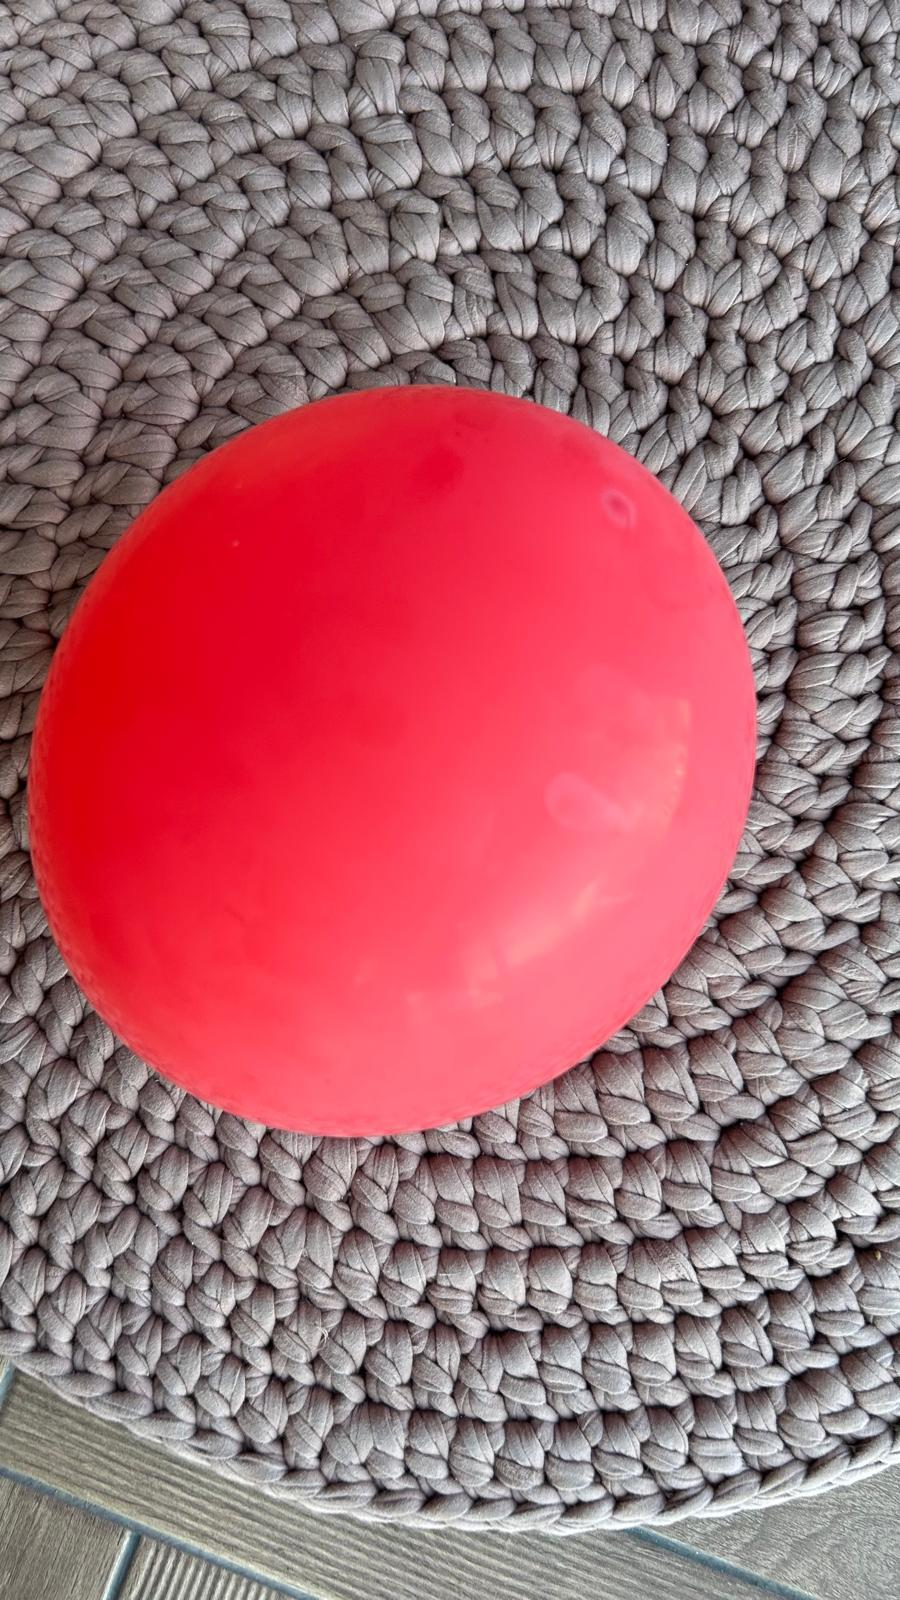red: (27, 377, 765, 1140)
